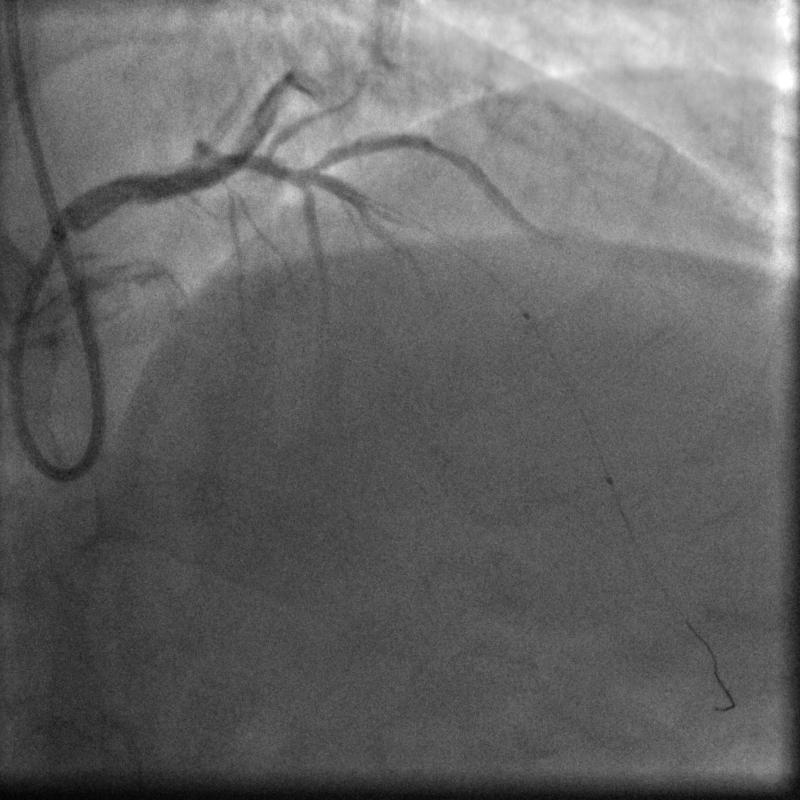Stenosis: (421, 129, 464, 168)
